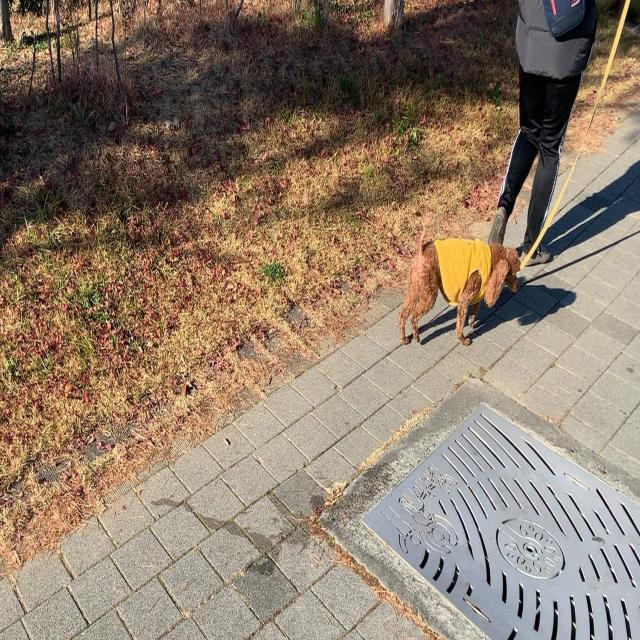Leashed_Dog: (397, 204, 546, 347)
